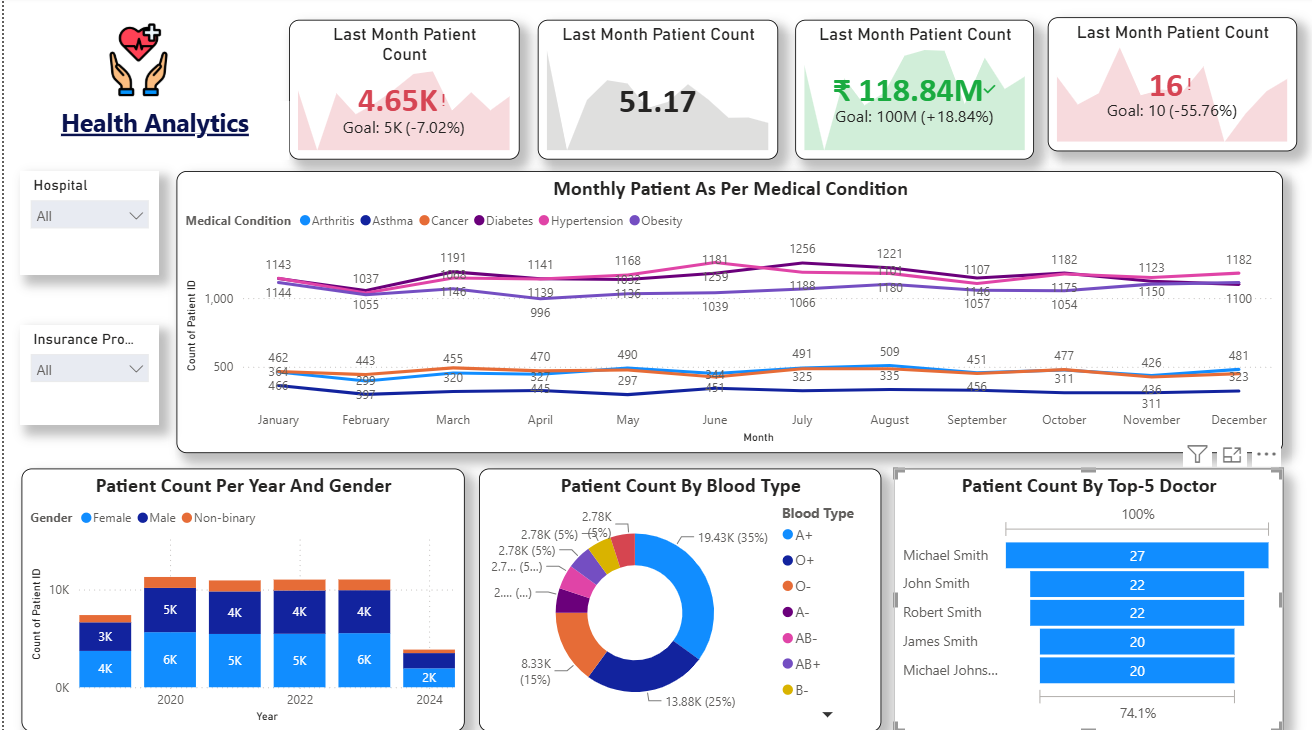

The dashboard page shown, as its layout file describes it:
{"tool":"powerbi","page":{"name":"Page 1","canvas":[1280,720],"ordinal":0},"visuals":[{"type":"kpi","title":"Last Month Patient Count ","fields":{"Indicator":["Count(Data.Patient ID)"],"TrendLine":["Data.Date of Admission.Variation.Date Hierarchy.Month"],"Goal":["Data.Monthl PC Target"]},"box":[279.4,22.8,225.2,136.8],"z":0},{"type":"kpi","title":"Last Month Patient Count ","fields":{"Indicator":["Avg(Data.Age)"],"TrendLine":["Data.Date of Admission.Variation.Date Hierarchy.Month"]},"box":[521.7,22.8,235.2,136.8],"z":1000},{"type":"kpi","title":"Last Month Patient Count ","fields":{"TrendLine":["Data.Date of Admission.Variation.Date Hierarchy.Month"],"Goal":["Data.Billing Target"],"Indicator":["Sum(Data.Billing Amount)"]},"box":[774,22.8,233.8,136.8],"z":2000},{"type":"kpi","title":"Last Month Patient Count ","fields":{"TrendLine":["Data.Date of Admission.Variation.Date Hierarchy.Month"],"Indicator":["Avg(Data.Stay Duration)"],"Goal":["Avg(Data.Duratin Target)"]},"box":[1020.6,21.4,243.7,131.1],"z":3000},{"type":"lineChart","title":"Monthly Patient As Per Medical Condition","fields":{"Category":["Data.Date of Admission.Variation.Date Hierarchy.Month"],"Y":["CountNonNull(Data.Patient ID)"],"Series":["Data.Medical Condition"]},"box":[17.1,171,1234.4,276.5],"z":4000},{"type":"columnChart","title":"Patient Count Per Year And Gender","fields":{"Y":["Count(Data.Patient ID)"],"Category":["Data.Date of Admission.Variation.Date Hierarchy.Year"],"Series":["Data.Gender"]},"box":[17.1,461.8,433.3,258],"z":5000},{"type":"donutChart","title":"Patient Count With Blood Type","fields":{"Y":["Count(Data.Patient ID)"],"Category":["Data.Blood Type"]},"box":[464.7,461.8,393.4,258],"z":6000},{"type":"funnel","title":"Patient Count With Blood Type","fields":{"Y":["Count(Data.Patient ID)"],"Category":["Data.Doctor"]},"box":[870.9,461.8,380.6,258],"z":7000},{"type":"slicer","fields":{"Values":["Data.Hospital"]},"box":[17.1,22.8,249.4,68.4],"z":7001},{"type":"slicer","fields":{"Values":["Data.Insurance Provider"]},"box":[17.1,91.2,249.4,68.4],"z":7002}]}

Visuals, with their boxes in screenshot pixels (x1, y1, x2, y2), scaled from the page's 1280x720 canvas onto the 1312x730 screenshot:
"Last Month Patient Count " kpi: left=286, top=23, right=517, bottom=162
"Last Month Patient Count " kpi: left=535, top=23, right=776, bottom=162
"Last Month Patient Count " kpi: left=793, top=23, right=1033, bottom=162
"Last Month Patient Count " kpi: left=1046, top=22, right=1296, bottom=155
"Monthly Patient As Per Medical Condition" lineChart: left=18, top=173, right=1283, bottom=454
"Patient Count Per Year And Gender" columnChart: left=18, top=468, right=462, bottom=729
"Patient Count With Blood Type" donutChart: left=476, top=468, right=880, bottom=729
"Patient Count With Blood Type" funnel: left=893, top=468, right=1283, bottom=729
slicer - Data.Hospital: left=18, top=23, right=273, bottom=92
slicer - Data.Insurance Provider: left=18, top=92, right=273, bottom=162
